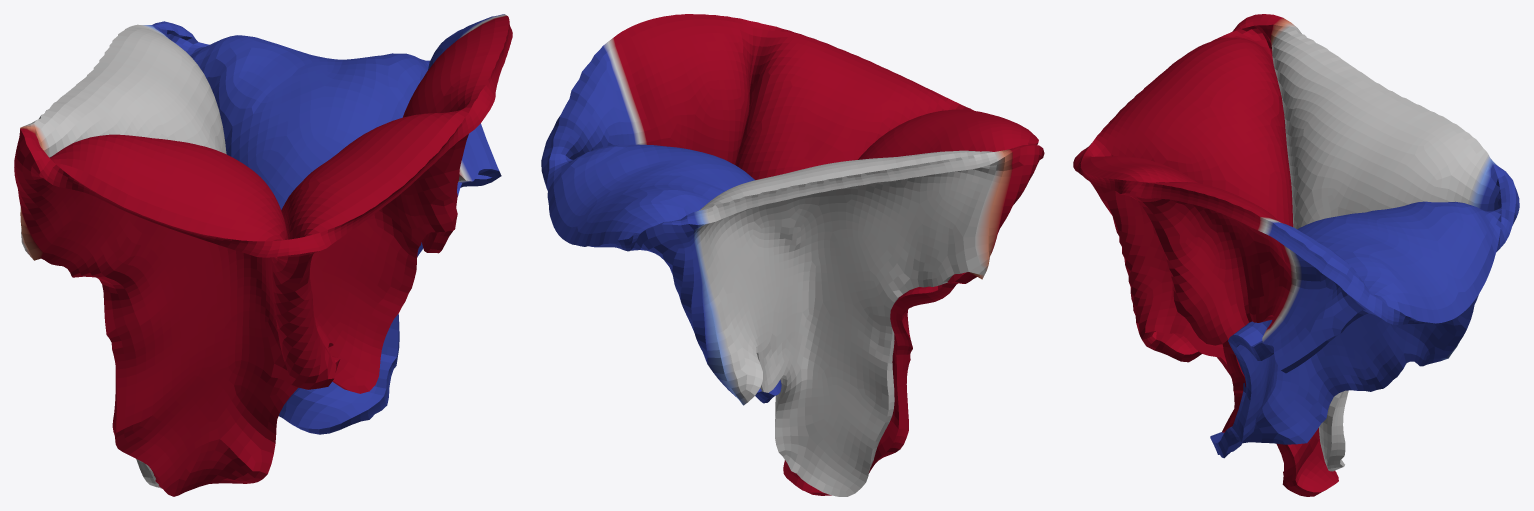
Rendered from static_pres.glb.
3 views of the same model, side by side, from view 1: azimuth 30°, elevation 25°; view 2: azimuth 150°, elevation 25°; view 3: azimuth 270°, elevation 25° (orthographic). The views are drawn at different scales.
Parts seen in each view (by area): view 1: static_pres; view 2: static_pres; view 3: static_pres.
Part boxes in pixels (<box>): static_pres: <box>14,14,512,496</box>; static_pres: <box>541,14,1044,496</box>; static_pres: <box>1073,14,1519,496</box>.
Size of the model in its own units: 27.17 by 22.61 by 23.21.
